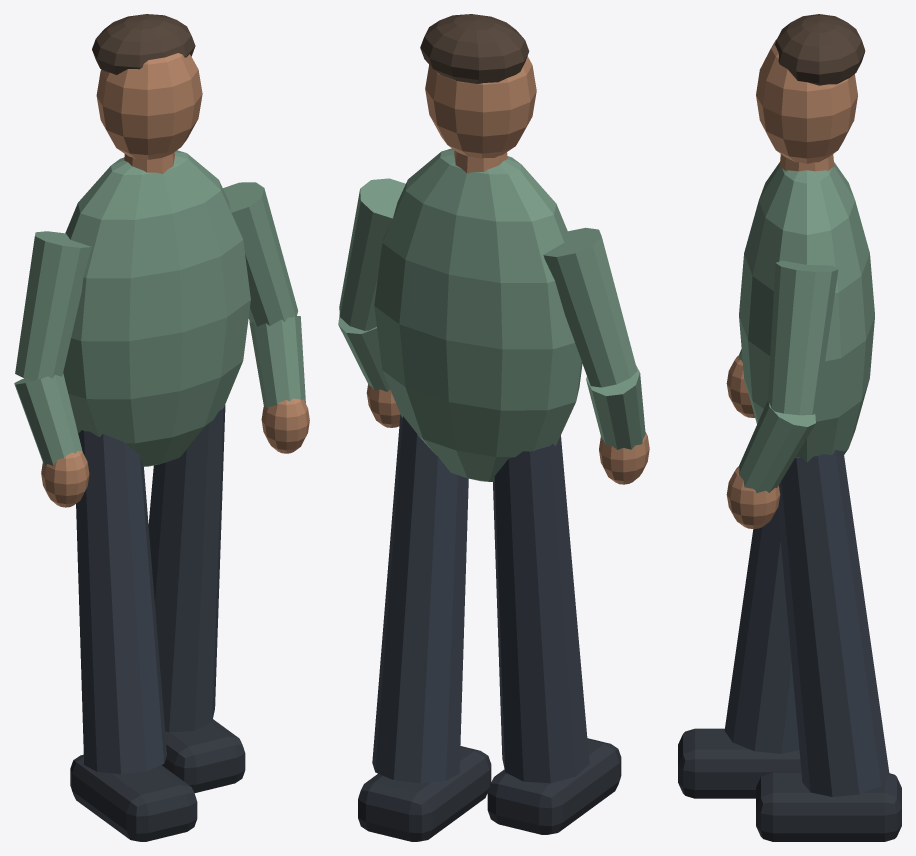
The model's file is walker.glb.
The picture shows the model from 3 angles, left to right: view 1: azimuth 30°, elevation 25°; view 2: azimuth 150°, elevation 25°; view 3: azimuth 270°, elevation 25°; orthographic projection. The views are drawn at different scales.
Parts seen in each view (by area): view 1: walker; view 2: walker; view 3: walker.
Part boxes in pixels (bbox=[...]): walker: bbox=[14, 14, 309, 841]; walker: bbox=[338, 14, 649, 841]; walker: bbox=[678, 14, 901, 841].
Size of the model in its own units: 0.689 by 1.79 by 0.46.
